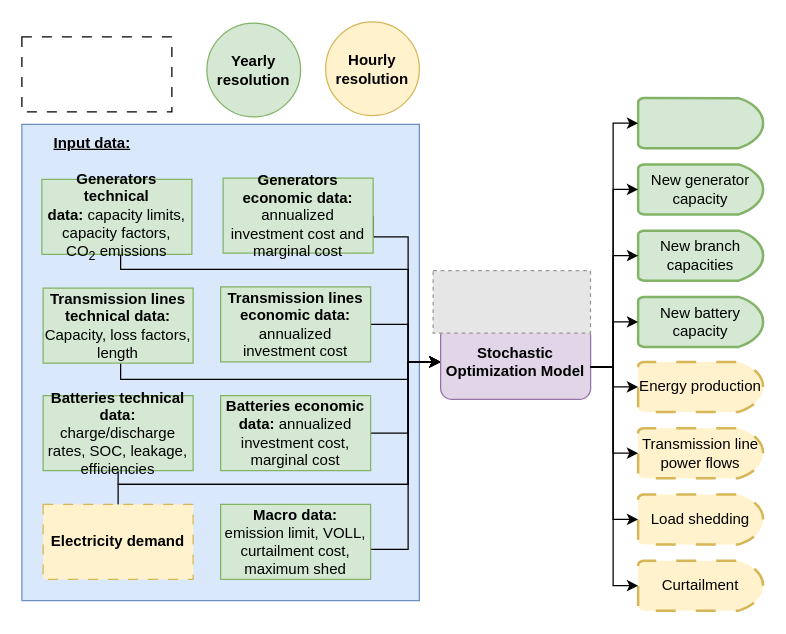
The diagram is 786 pixels wide and 634 high, and some of its shapes have lost their labels. Grey dashed boxes stand in for pictures. The box of each missing label's shape, as (x1, y1, x2, y2) in pixels:
Dashed border means scenario-dependent: (21, 36, 172, 112)
Investment decisions: (636, 96, 764, 149)
